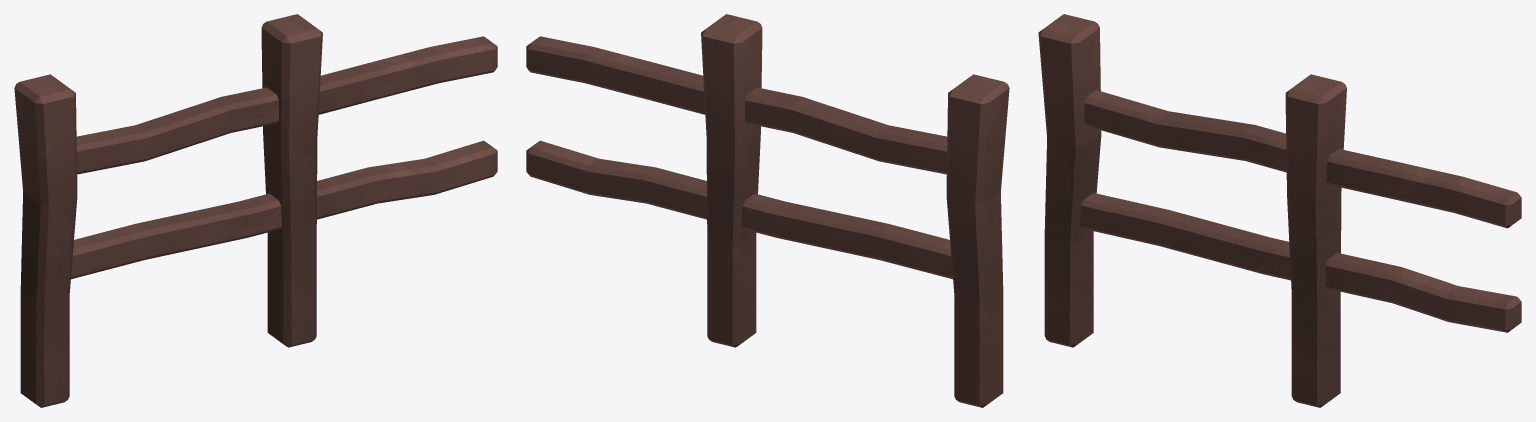
File: fencePiece2.fbx
3 views of the same model, side by side, from view 1: azimuth 30°, elevation 25°; view 2: azimuth 150°, elevation 25°; view 3: azimuth 330°, elevation 25° (orthographic).
Visible parts, largest first — view 1: fencePiece1; view 2: fencePiece1; view 3: fencePiece1.
Boxes of the visible parts, x1,y1,x2,y2 form: fencePiece1: (14,14,497,407); fencePiece1: (526,14,1009,407); fencePiece1: (1038,14,1521,407).
Size of the model in its own units: 695 by 446 by 69.8.
